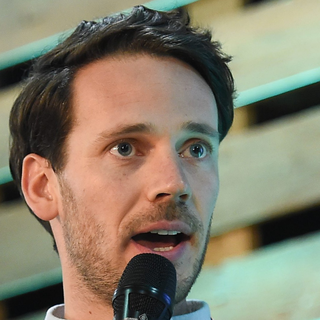eye: (175, 135, 214, 167), (100, 136, 147, 161)
